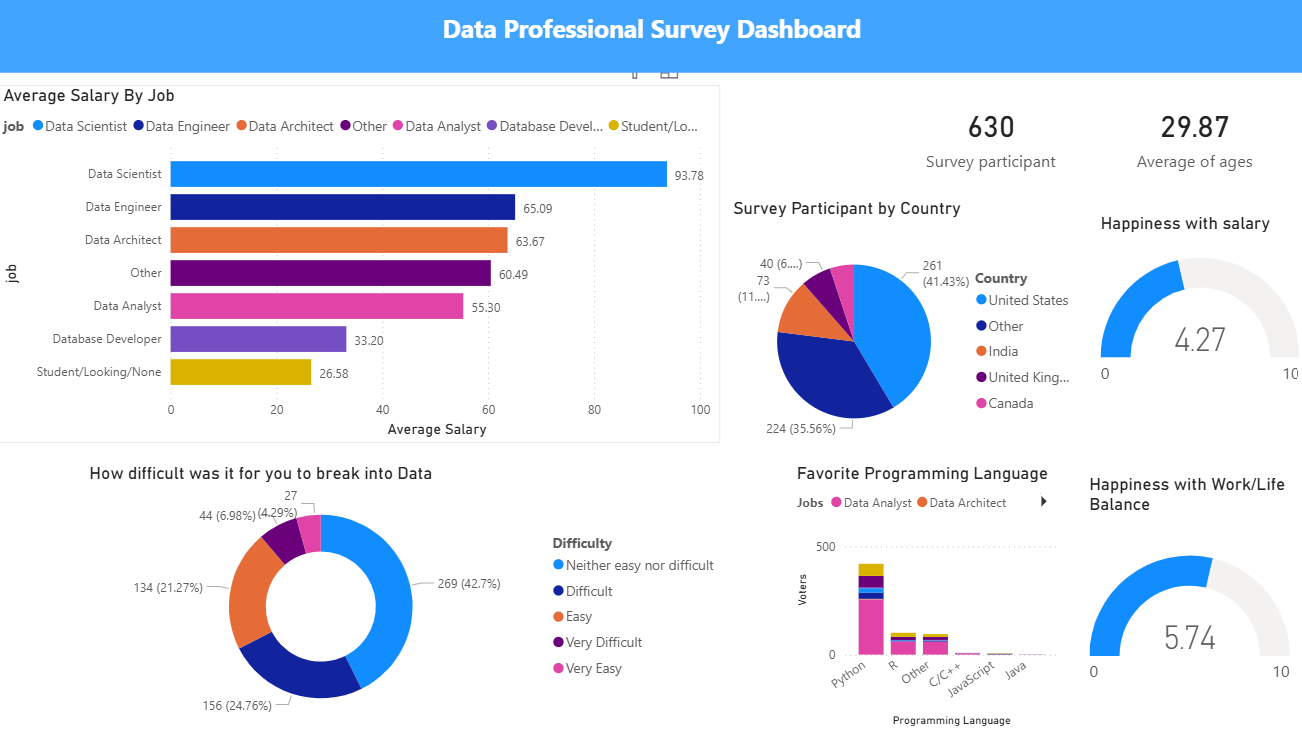

This screenshot's page, from the dashboard's own definition file:
{"tool":"powerbi","page":{"name":"Page 1","canvas":[1280,720],"ordinal":0},"visuals":[{"type":"card","fields":{"Values":["Avg(Data Professional Survey.Q10 - Current Age)"]},"box":[1064.2,76.5,216,121],"z":0},{"type":"card","title":"Survey participant","fields":{"Values":["CountNonNull(Data Professional Survey.Unique ID)"]},"box":[869.1,76.5,206.2,121],"z":1000},{"type":"barChart","title":" Average Salary By Job","fields":{"Series":["Data Professional Survey.Q1 - Which Title Best Fits your Current Role?"],"Category":["Data Professional Survey.Q1 - Which Title Best Fits your Current Role?"],"Y":["Avg(Data Professional Survey.Average_salary)"]},"box":[1.2,88,705.6,349.7],"z":2000},{"type":"textbox","box":[1.4,2.7,1278.9,73.5],"z":3000},{"type":"donutChart","title":"How difficult was it for you to break into Data","fields":{"Category":["Data Professional Survey.Q7 - How difficult was it for you to break into Data?"],"Y":["CountNonNull(Data Professional Survey.Q7 - How difficult was it for you to break into Data?)"]},"box":[85.2,456.8,629.6,263],"z":4000},{"type":"gauge","title":"Happiness with salary","fields":{"Y":["Avg(Data Professional Survey.Q6 - How Happy are you in your Current Position with the following? (Salary))"],"MinValue":["Min(Data Professional Survey.Q6 - How Happy are you in your Current Position with the following? (Salary))"],"MaxValue":["Max(Data Professional Survey.Q6 - How Happy are you in your Current Position with the following? (Salary))"]},"box":[1075.3,212.3,204.9,198.8],"z":5000},{"type":"gauge","title":"Happiness with Work/Life Balance","fields":{"Y":["Avg(Data Professional Survey.Q6 - How Happy are you in your Current Position with the following? (Work/Life Balance))"],"MinValue":["Min(Data Professional Survey.Q6 - How Happy are you in your Current Position with the following? (Work/Life Balance))"],"MaxValue":["Max(Data Professional Survey.Q6 - How Happy are you in your Current Position with the following? (Work/Life Balance))"]},"box":[1064.2,467.9,206.2,251.9],"z":6000},{"type":"columnChart","title":" Favorite Programming Language","fields":{"Category":["Data Professional Survey.Q5 - Favorite Programming Language"],"Y":["CountNonNull(Data Professional Survey.Q5 - Favorite Programming Language)"],"Series":["Data Professional Survey.Q1 - Which Title Best Fits your Current Role?"]},"box":[777.8,456.8,265.4,263],"z":7000},{"type":"pieChart","fields":{"Category":["Data Professional Survey.Q11 - Which Country do you live in?"],"Y":["CountNonNull(Data Professional Survey.Unique ID)"]},"box":[715.4,198.1,348.5,262.9],"z":8001}]}

Visuals, with their boxes in screenshot pixels (x1, y1, x2, y2), scaled from the page's 1280x720 canvas onto the 1302x731 screenshot:
card - Avg(Data Professional Survey.Q10 - Current Age): rect(1082, 78, 1301, 201)
"Survey participant" card: rect(884, 78, 1094, 201)
" Average Salary By Job" barChart: rect(1, 89, 719, 444)
textbox: rect(1, 3, 1301, 77)
"How difficult was it for you to break into Data" donutChart: rect(87, 464, 727, 730)
"Happiness with salary" gauge: rect(1094, 216, 1301, 417)
"Happiness with Work/Life Balance" gauge: rect(1082, 475, 1292, 730)
" Favorite Programming Language" columnChart: rect(791, 464, 1061, 730)
pieChart - Data Professional Survey.Q11 - Which Country do you live in? x CountNonNull(Data Professional Survey.Unique ID): rect(728, 201, 1082, 468)
